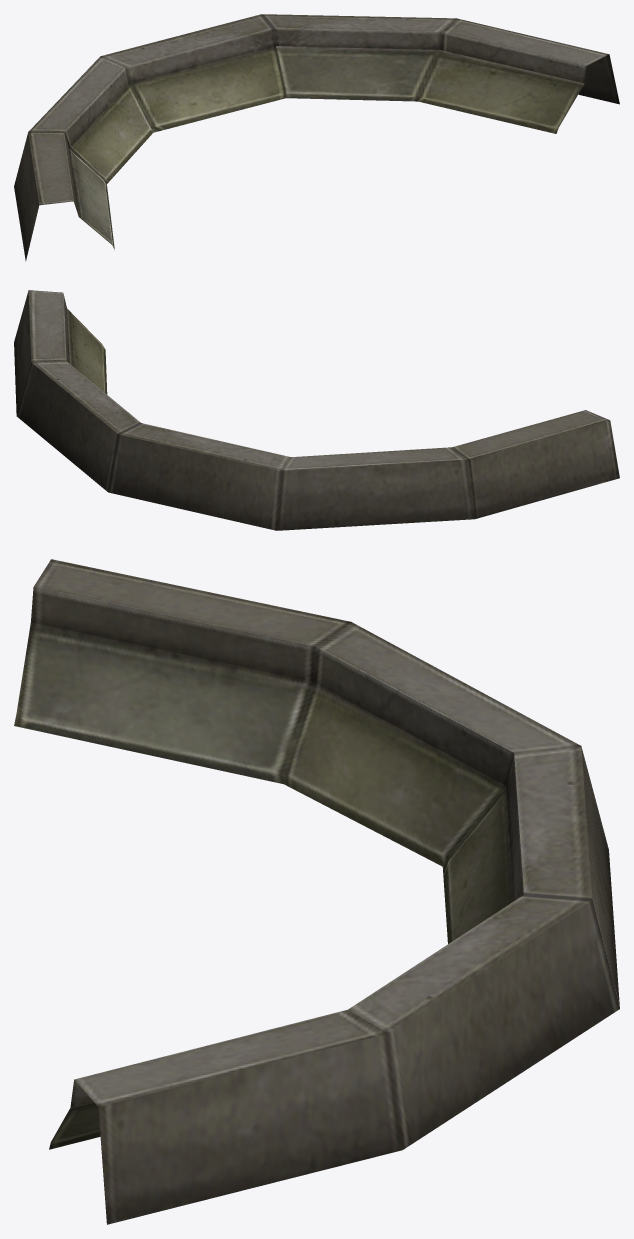
File: H_Ferry05.FBX
3 renders of one model, top to bottom at view 1: azimuth 30°, elevation 25°; view 2: azimuth 150°, elevation 25°; view 3: azimuth 270°, elevation 25°, orthographic. The views are drawn at different scales.
Visible parts, largest first — view 1: H_Ferry05; view 2: H_Ferry05; view 3: H_Ferry05.
Boxes of the visible parts, left/top/right/bottom form: H_Ferry05: left=14, top=14, right=619, bottom=261; H_Ferry05: left=14, top=290, right=619, bottom=530; H_Ferry05: left=14, top=559, right=619, bottom=1224.
Size of the model in its own units: 921 by 79.67 by 413.
